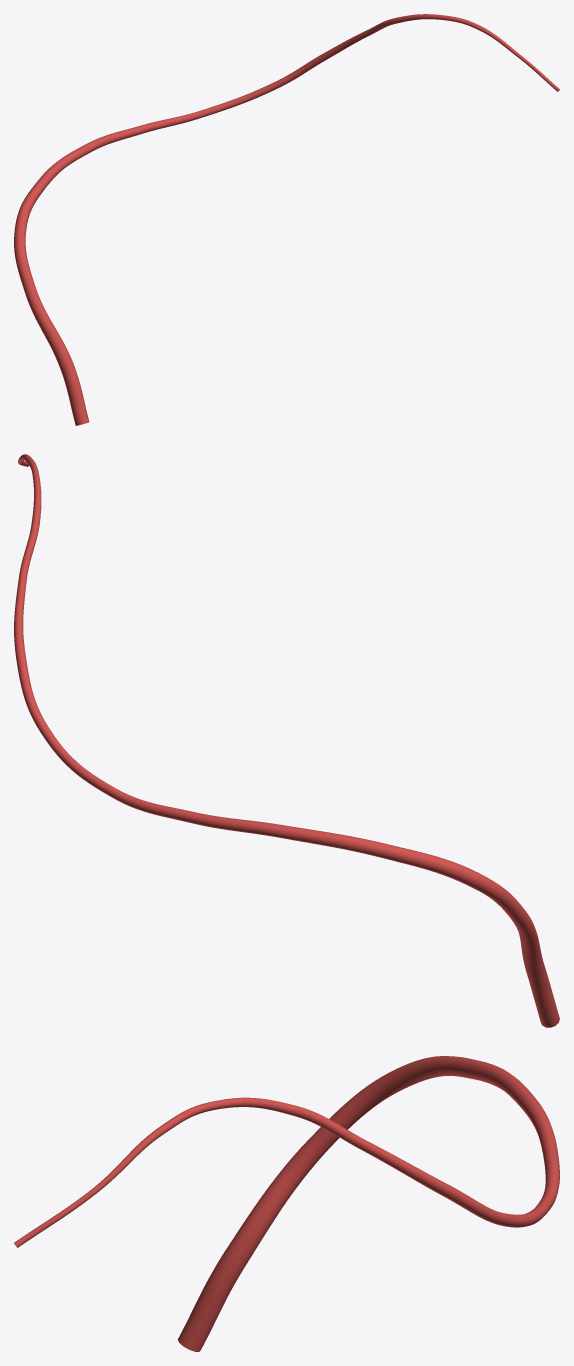
3 views of the same model, one above another, from view 1: azimuth 30°, elevation 25°; view 2: azimuth 150°, elevation 25°; view 3: azimuth 270°, elevation 25° (orthographic). The views are drawn at different scales.
Visible parts, largest first — view 1: 左侧枕外侧动脉; view 2: 左侧枕外侧动脉; view 3: 左侧枕外侧动脉.
Boxes of the visible parts, x1,y1,x2,y2 form: 左侧枕外侧动脉: (14, 14, 559, 425); 左侧枕外侧动脉: (14, 454, 559, 1027); 左侧枕外侧动脉: (14, 1056, 559, 1351).
Size of the model in its own units: 0.0639 by 0.0432 by 0.0374.
